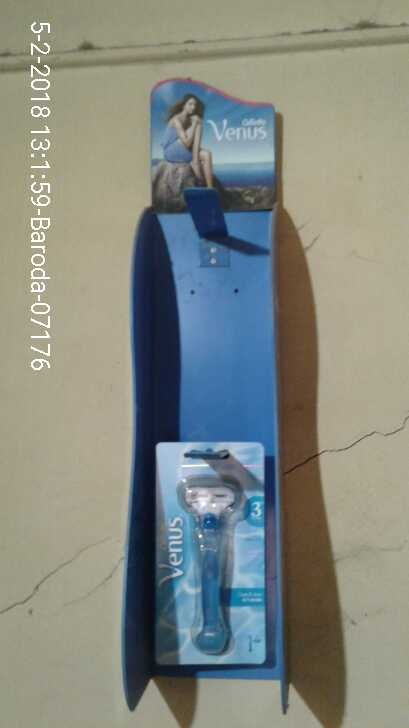reject: (149, 255, 194, 305)
venus: (150, 441, 267, 664)
